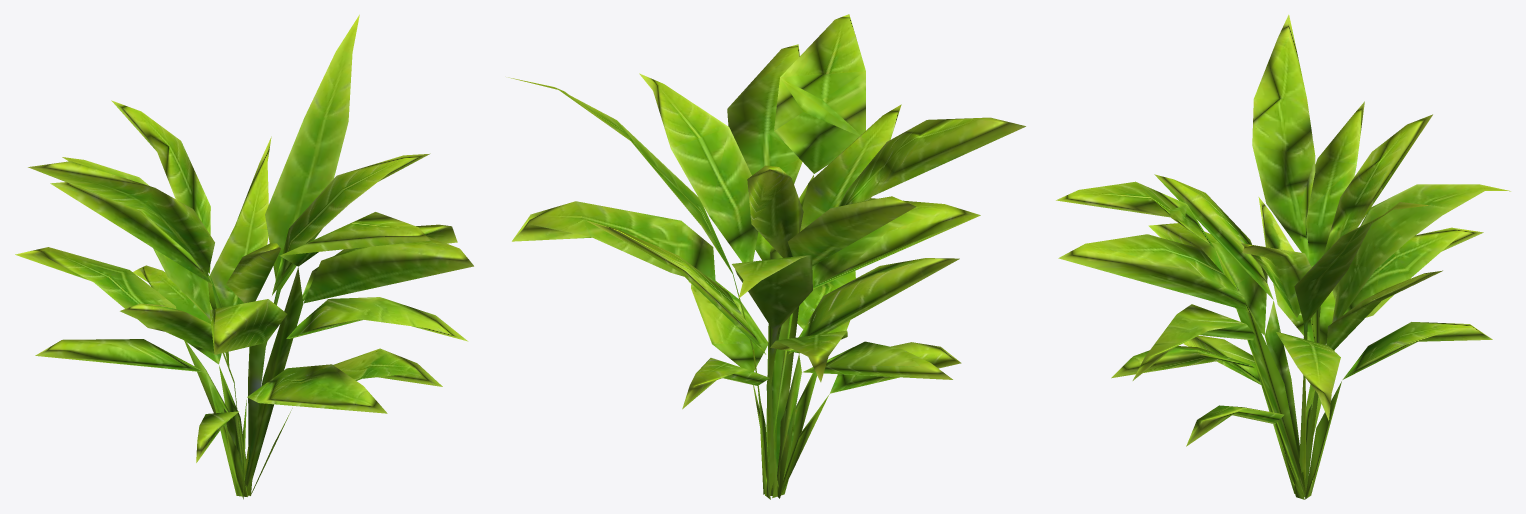
The model's file is fern_lo.glb.
3 renders of one model, left to right at view 1: azimuth 30°, elevation 25°; view 2: azimuth 150°, elevation 25°; view 3: azimuth 270°, elevation 25°, orthographic. The views are drawn at different scales.
Bounding box in the file's own units: 0.9668 × 0.7964 × 0.8735.
Materials: 1 (1 with a texture image).
